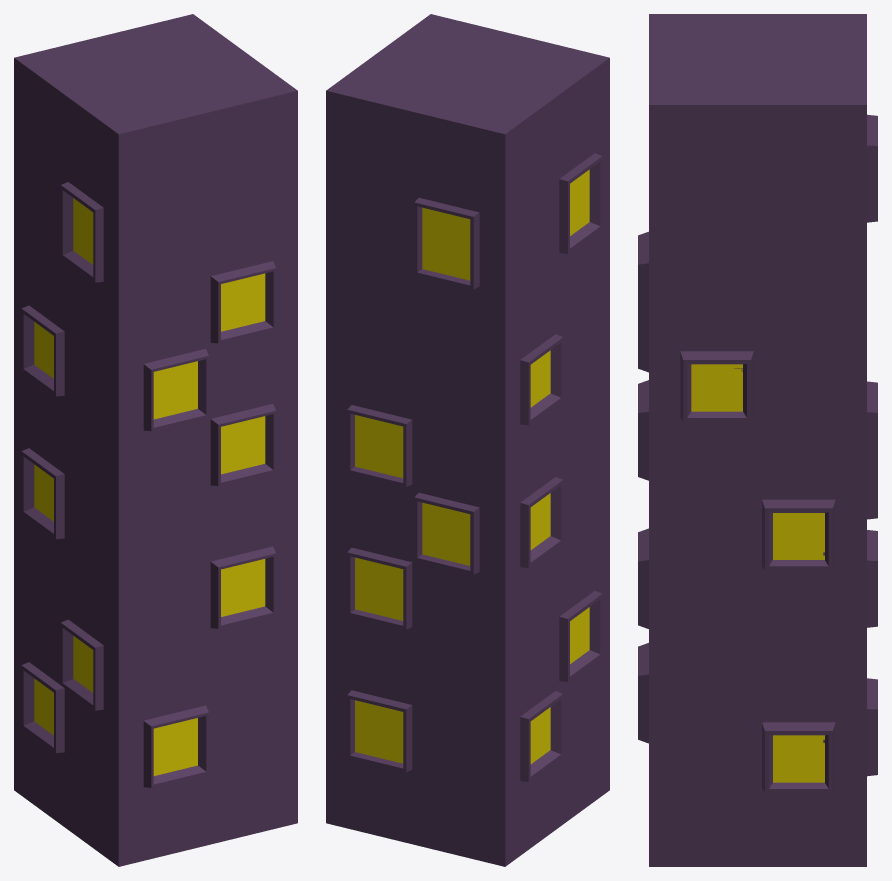
The model's file is idk.fbx.
3 views of the same model, side by side, from view 1: azimuth 30°, elevation 25°; view 2: azimuth 150°, elevation 25°; view 3: azimuth 270°, elevation 25° (orthographic). The views are drawn at different scales.
Visible parts, largest first — view 1: Cube; view 2: Cube; view 3: Cube.
Boxes of the visible parts, x1,y1,x2,y2 form: Cube: [14, 14, 297, 866]; Cube: [326, 14, 609, 866]; Cube: [638, 14, 877, 866].
Size of the model in its own units: 1334 by 4682 by 1336.
